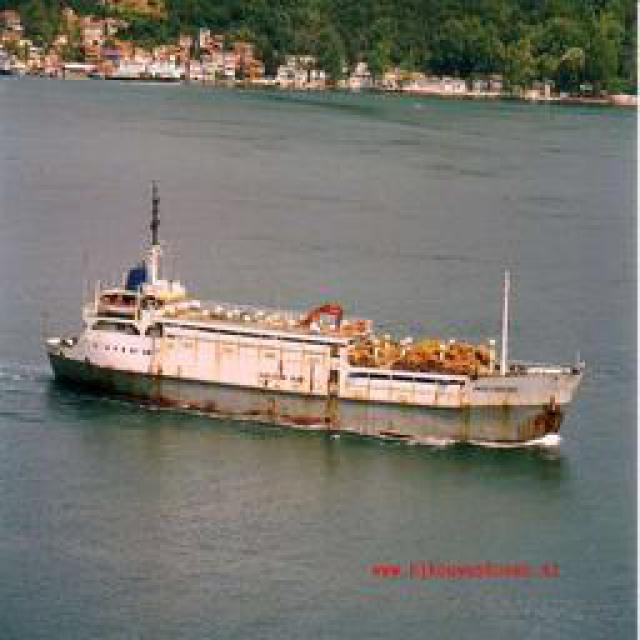Ship: (50, 202, 588, 450)
